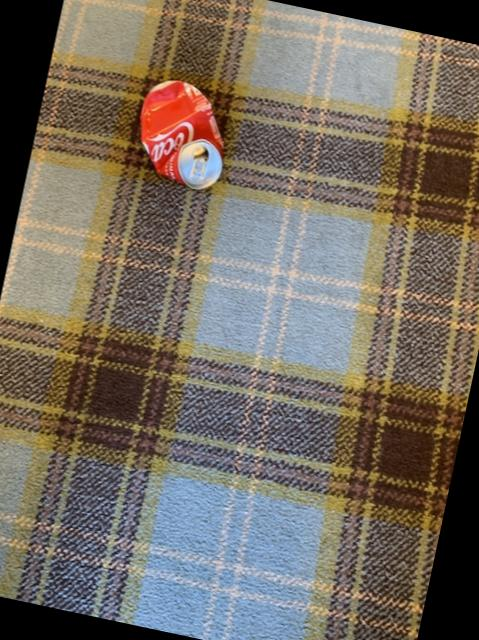metal: (140, 81, 223, 190)
